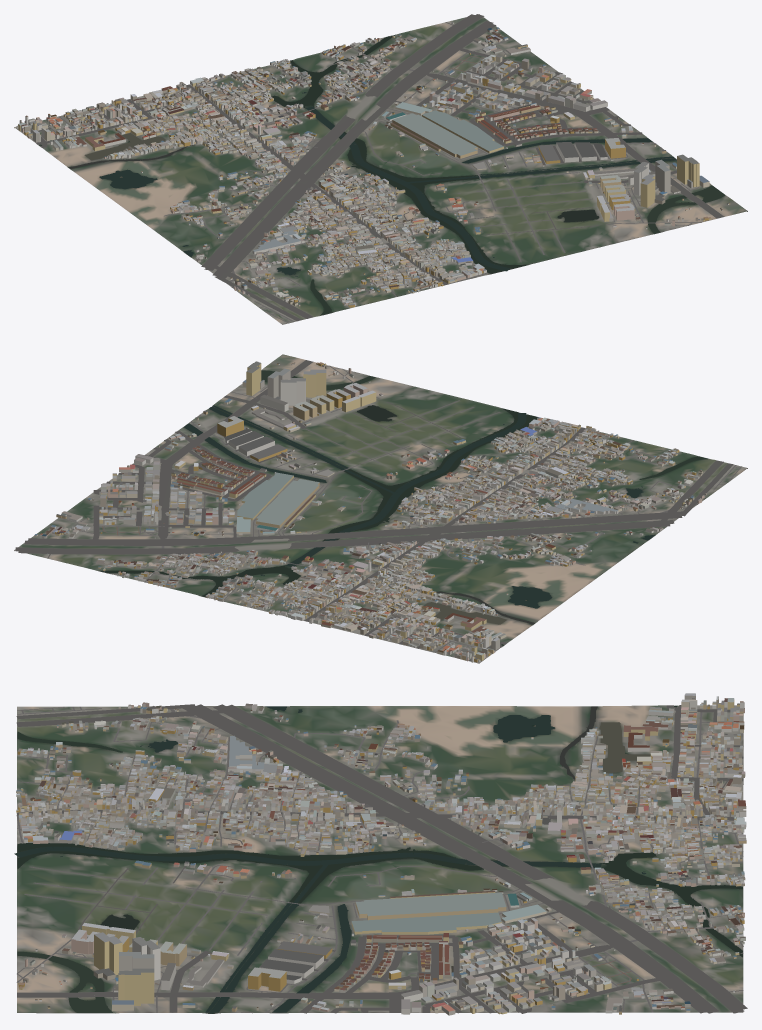
The picture shows the model from 3 angles, top to bottom: view 1: azimuth 30°, elevation 25°; view 2: azimuth 150°, elevation 25°; view 3: azimuth 270°, elevation 25°; orthographic projection. The views are drawn at different scales.
Visible parts, largest first — view 1: ground, buildings, roads, water; view 2: ground, buildings, roads, water; view 3: ground, buildings, roads, water.
Part boxes in pixels (bbox=[...]): ground: bbox=[14, 14, 747, 324]; buildings: bbox=[16, 22, 730, 307]; roads: bbox=[30, 14, 724, 323]; water: bbox=[39, 34, 724, 315]; ground: bbox=[14, 354, 747, 663]; buildings: bbox=[34, 361, 706, 662]; roads: bbox=[15, 360, 741, 661]; water: bbox=[98, 370, 708, 645]; ground: bbox=[17, 705, 743, 1013]; buildings: bbox=[16, 693, 746, 1015]; roads: bbox=[16, 704, 747, 1013]; water: bbox=[14, 705, 742, 1013].
Size of the model in its own units: 1420 by 71.14 by 1415.
